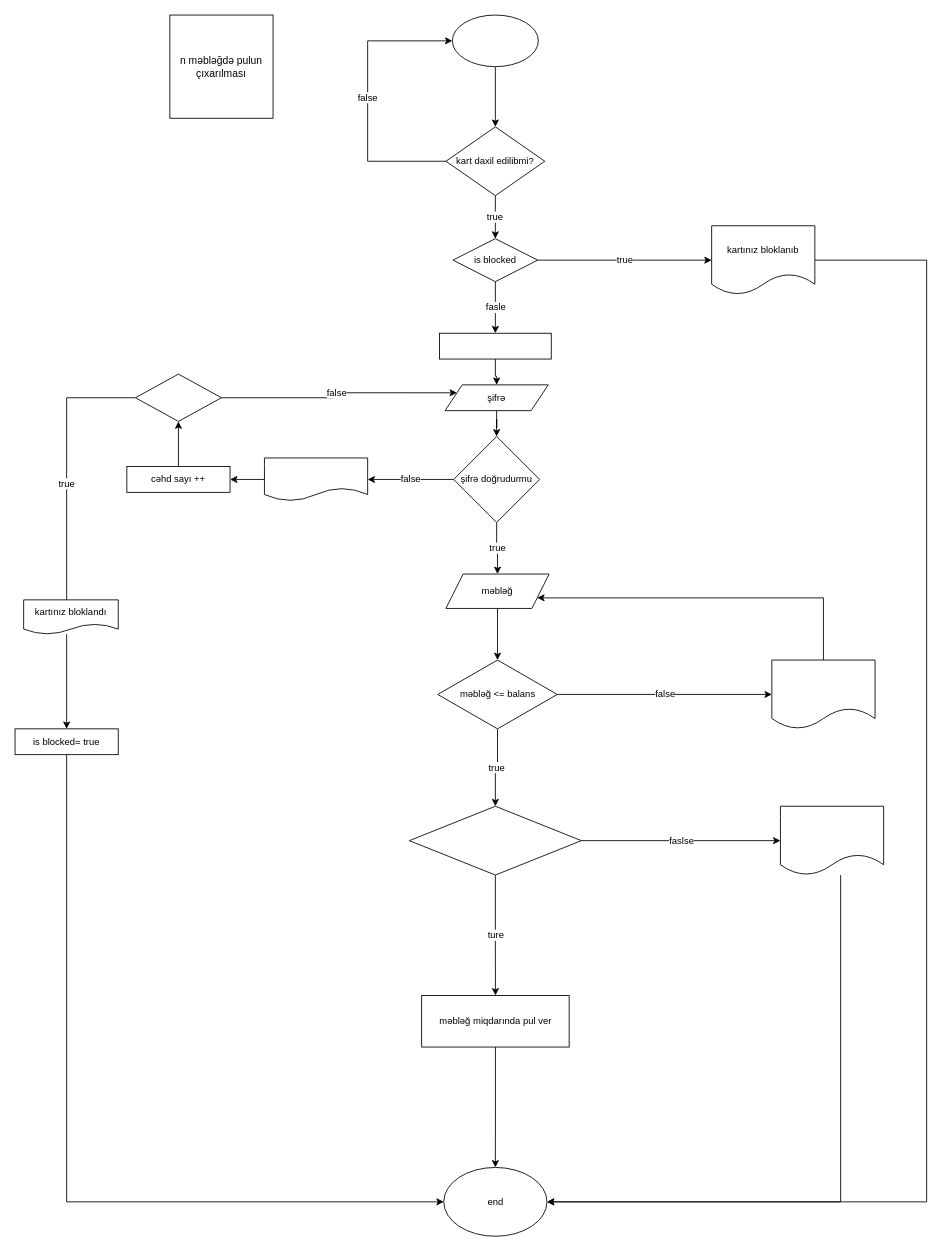
The diagram is 949 pixels wide and 1251 high, and some of its shapes have lost their labels. Each missing label, with the centre of its shape:
"balansınızda kifayət qədər məbləğ yoxdur yeni məbləğ daxil edin" belongs at point (823, 694).
"Bankomatda yetərli məbləğ yoxdur" belongs at point (832, 840).
"cəhd sayı = 0" belongs at point (495, 345).
"cəhd sayı ==3" belongs at point (178, 397).
"məbləğ <= bankomatda olan pul" belongs at point (494, 840).
"start" belongs at point (495, 40).
"şifrə yanlışdır" belongs at point (316, 479).
